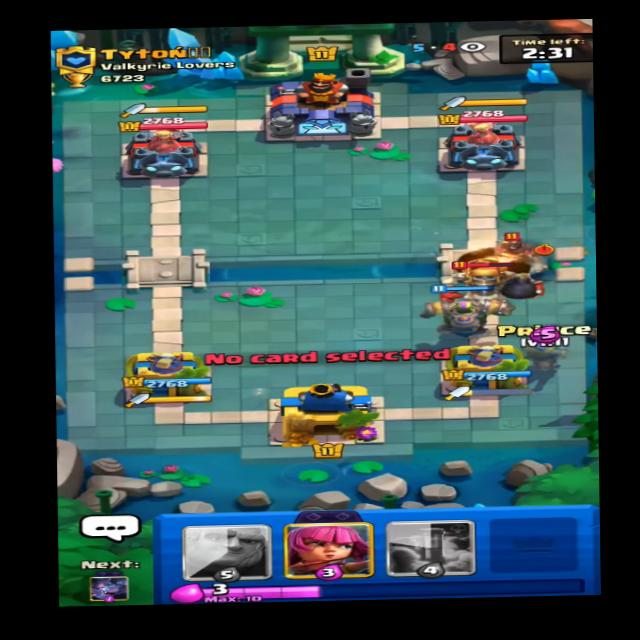giant-skeleton: (427, 251, 544, 309)
hog-rider: (484, 225, 560, 275)
